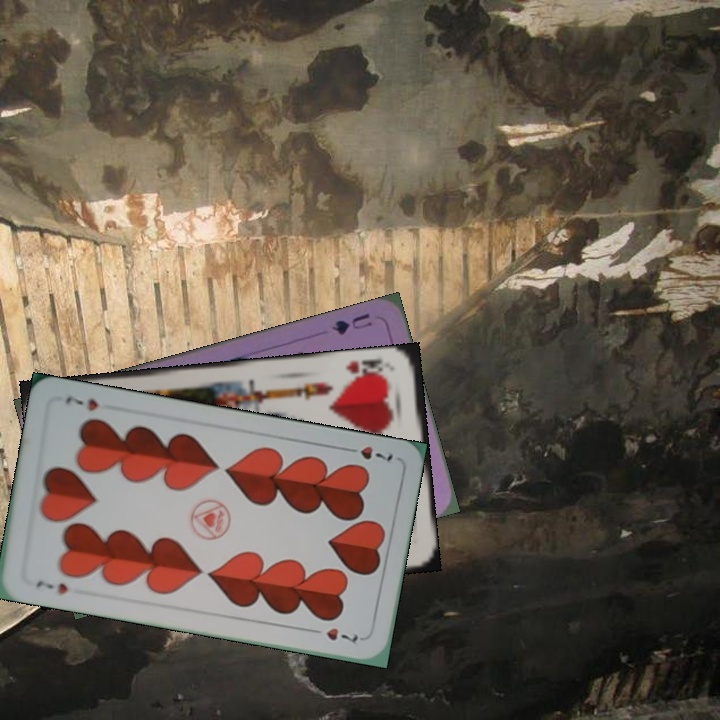GU: (328, 309, 375, 338)
H7: (339, 442, 396, 464), (31, 577, 71, 597)
HK: (341, 354, 390, 384)
